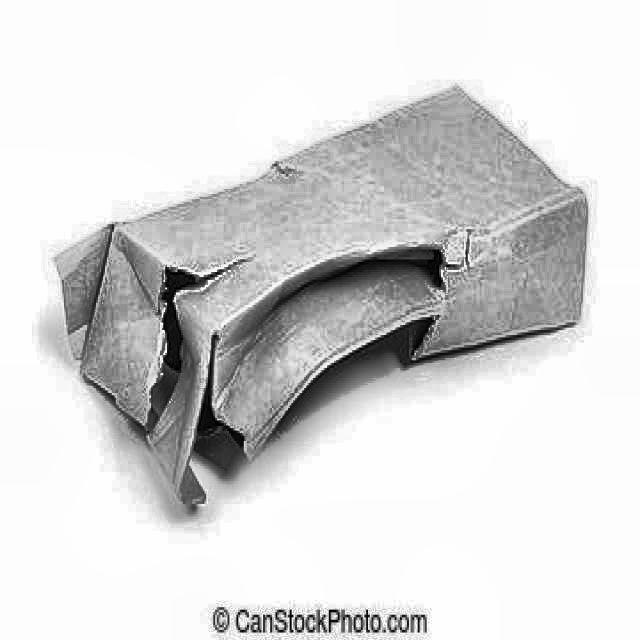box: (44, 75, 596, 531)
hole: (126, 260, 216, 424), (403, 237, 455, 359)
